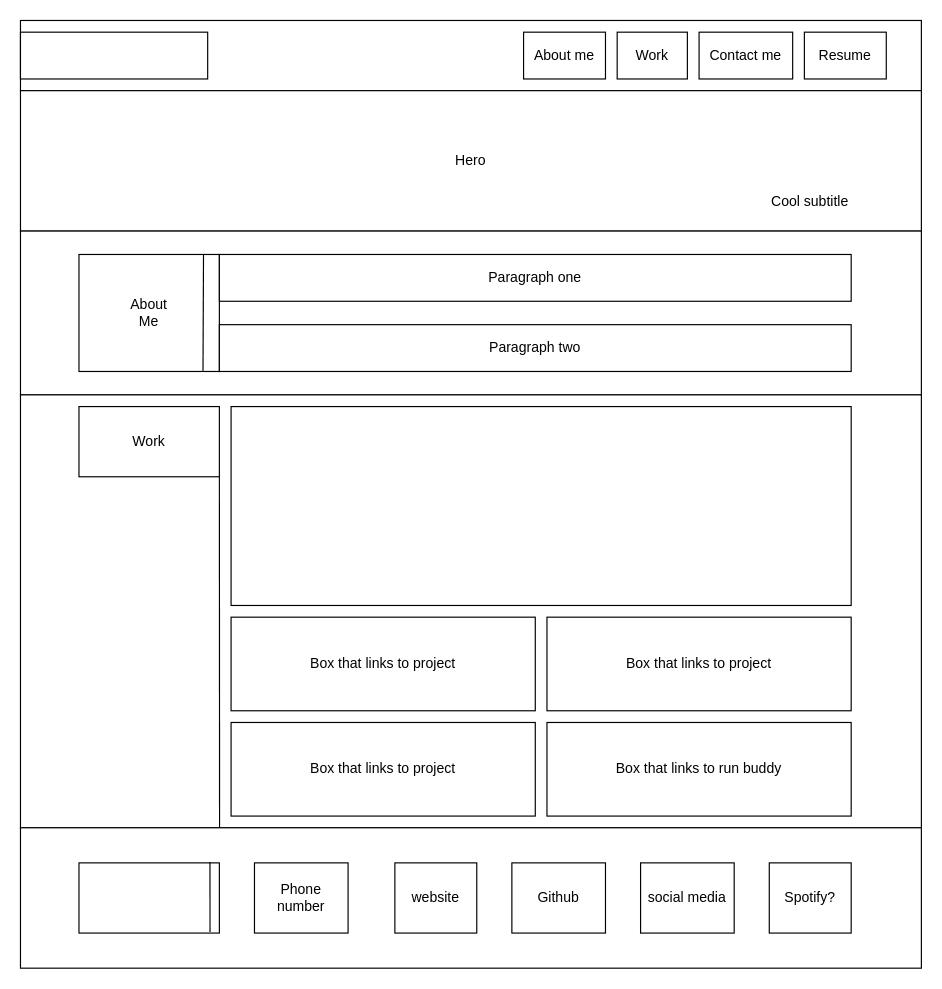
Some shapes in this 942 by 989 pixel diagram are drawn without their labels. Here are the shapes that lost their labels. From the top down, the centre of each, then its label:
At pixel 113 55: "NAME".
At pixel 540 505: "Box that links to some a project you've done".
At pixel 148 897: "Conact Me".
